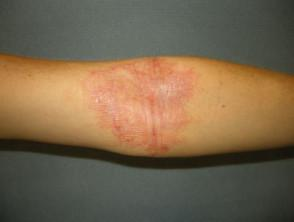Eczema: (83, 64, 210, 155)
